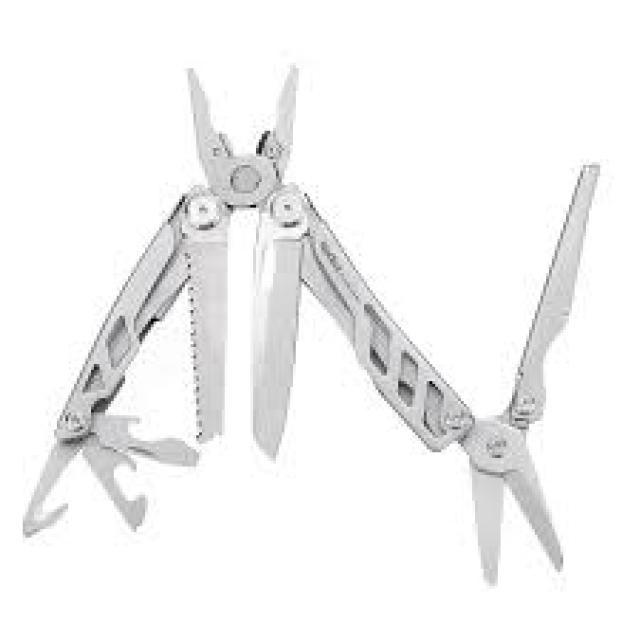pliers: (342, 135, 610, 598)
